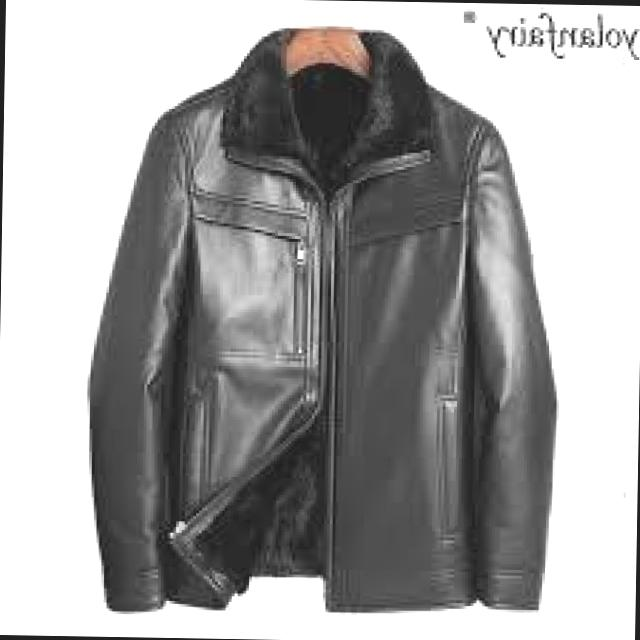jacket: (46, 2, 580, 628)
